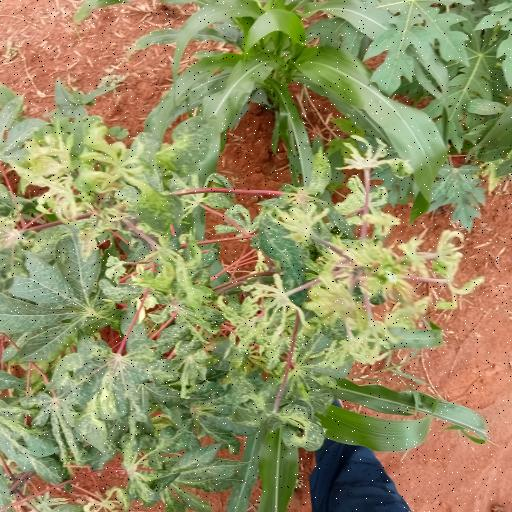Cassava_Mosaic: (0, 237, 110, 354), (48, 347, 162, 425), (143, 55, 244, 136), (128, 446, 186, 504), (192, 379, 230, 388)
